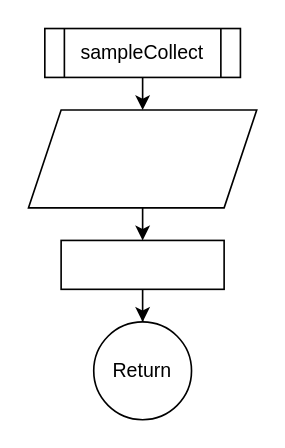
The diagram is 285 pixels wide and 448 high, and some of its shapes have lost their labels. Here are the shapes that lost their labels. From the top down, the centre of each, then its label:
the point at 142,158: Simulate sample collection by making sound
the point at 141,264: Add 1 to sample
